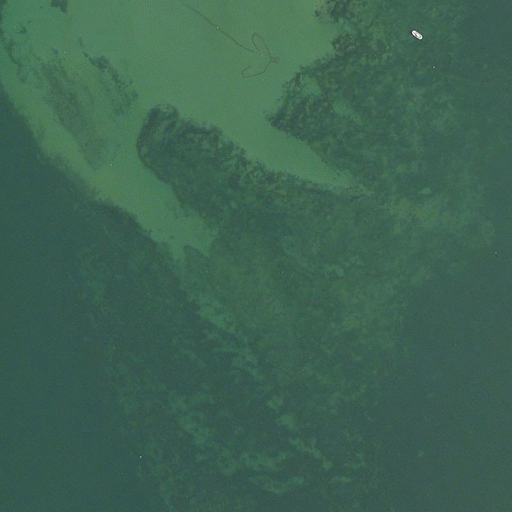ship: (411, 29, 422, 39)
